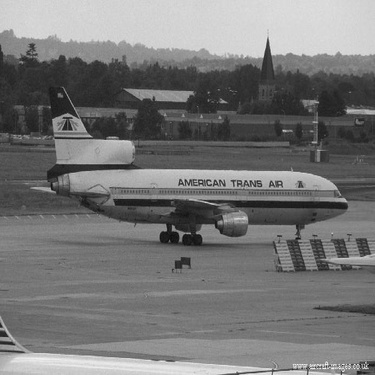airplane: (8, 73, 369, 262)
